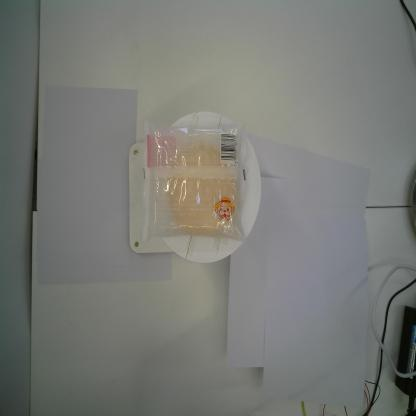Dessert: (138, 118, 252, 246)
